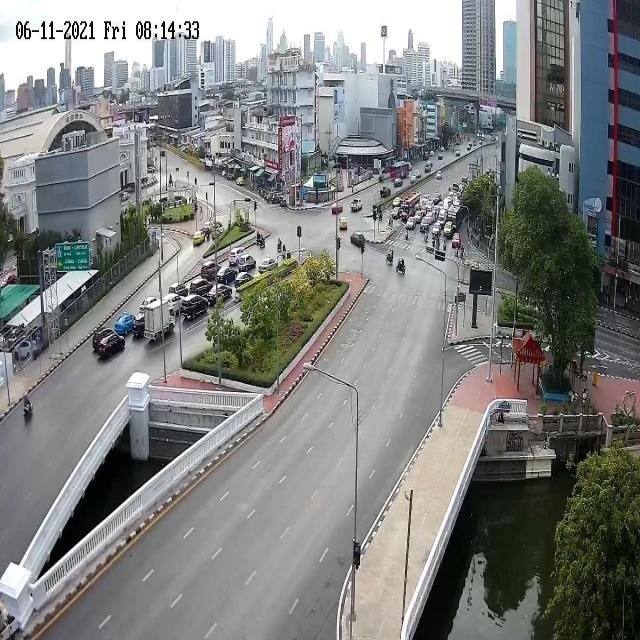Bus: (400, 190, 421, 221), (390, 162, 409, 179), (452, 206, 462, 230), (446, 203, 455, 220)
Car: (180, 293, 209, 320), (97, 332, 126, 358), (93, 326, 116, 351), (207, 282, 231, 304), (114, 313, 136, 336), (190, 278, 214, 297), (216, 266, 238, 286), (15, 338, 34, 361), (235, 252, 256, 272), (166, 291, 185, 313), (132, 312, 146, 338), (234, 270, 254, 288), (200, 262, 218, 282), (228, 246, 245, 266), (140, 296, 159, 313), (168, 281, 188, 297), (258, 258, 277, 274), (1, 272, 16, 288), (192, 230, 204, 245), (212, 222, 225, 235), (350, 231, 363, 244), (443, 222, 453, 238), (452, 232, 462, 248), (331, 201, 343, 214), (419, 216, 430, 230), (406, 216, 416, 230), (338, 216, 348, 229), (432, 222, 442, 235), (380, 186, 390, 198), (392, 196, 402, 208), (392, 206, 400, 220), (414, 210, 424, 221), (433, 192, 442, 204), (426, 212, 435, 224), (393, 178, 402, 188), (236, 175, 245, 185), (433, 205, 440, 217), (410, 175, 418, 184), (422, 194, 430, 202), (427, 200, 433, 210), (424, 165, 431, 172), (415, 170, 421, 178), (437, 170, 442, 179), (438, 152, 442, 160), (456, 150, 460, 157), (467, 145, 471, 150)
Cycle: (24, 402, 34, 421), (396, 260, 406, 275), (256, 234, 263, 246), (386, 253, 393, 264), (260, 238, 266, 248), (277, 240, 282, 252), (436, 238, 441, 248), (443, 240, 447, 251), (460, 249, 464, 259), (405, 229, 408, 239), (455, 248, 458, 257), (432, 236, 434, 246)
Truck: (144, 299, 178, 346), (350, 198, 362, 212)
